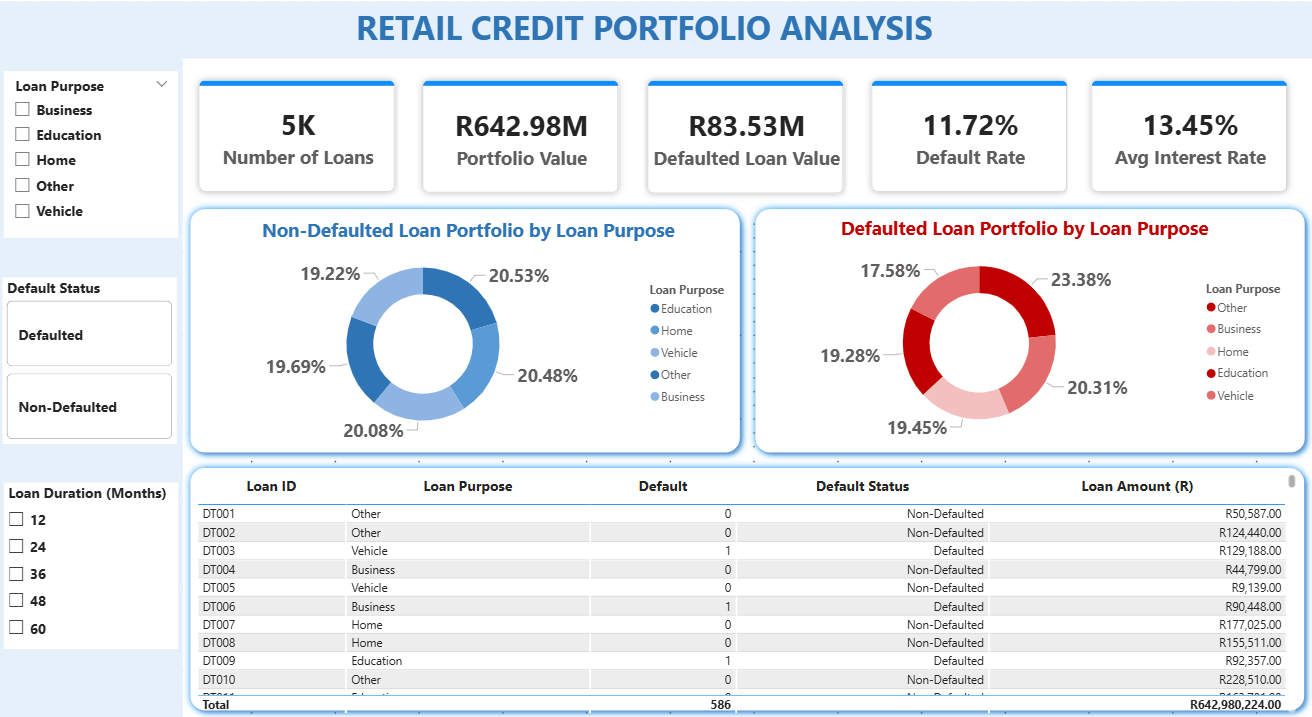

The page's visual inventory and layout, read from the dashboard file:
{"tool":"powerbi","page":{"name":"Summary","canvas":[1500,820],"ordinal":0},"visuals":[{"type":"group","id":"g1","title":"Group 1","box":[199.8,64.9,1300.4,185.6],"z":0},{"type":"cardVisual","fields":{"Data":["Sum(Loan.LoanAmount)"]},"box":[712.7,65,279.9,185.5],"z":0,"group":"g1"},{"type":"cardVisual","fields":{"Data":["CountNonNull(Loan.LoanID)"]},"box":[199.8,65,279.8,183.3],"z":1000,"group":"g1"},{"type":"shape","box":[854.2,229.4,646,296.1],"z":1000},{"type":"cardVisual","fields":{"Data":["Sum(Loan.LoanAmount)"]},"box":[455.5,64.9,279.8,184.9],"z":2000,"group":"g1"},{"type":"shape","box":[208.3,229.4,646,296.1],"z":2000},{"type":"shape","box":[0,0.9,1500,65.5],"z":3000,"group":"g3"},{"type":"cardVisual","fields":{"Data":["Avg(Loan.Default)"]},"box":[968.1,65,279.9,183.9],"z":3000,"group":"g1"},{"type":"cardVisual","fields":{"Data":["Avg(Loan.InterestRate_Decimal)"]},"box":[1220.3,65,279.9,183.9],"z":4000,"group":"g1"},{"type":"donutChart","title":"Non-Defaulted Loan Portfolio by Loan Purpose","fields":{"Category":["Loan.LoanPurpose"],"Y":["CountNonNull(Loan.LoanID)"]},"box":[220.3,247.6,630.4,263.7],"z":4000,"group":"g2"},{"type":"textbox","box":[95,1,1281.2,72.5],"z":5000,"group":"g3"},{"type":"shape","box":[0,65.9,209,754.2],"z":6000,"group":"g2"},{"type":"donutChart","title":"Defaulted Loan Portfolio by Loan Purpose","fields":{"Category":["Loan.LoanPurpose"],"Y":["CountNonNull(Loan.LoanID)"]},"box":[855.5,246,630.4,263.7],"z":7000},{"type":"shape","box":[208.9,525,1291,295.2],"z":8000},{"type":"tableEx","fields":{"Values":["Loan.LoanID","Loan.LoanPurpose","Sum(Loan.Default)","Loan.Default Status","Sum(Loan.LoanAmount)"]},"box":[220,537.6,1265.9,282.7],"z":9000},{"type":"slicer","title":"Loan Purpose","fields":{"Values":["Loan.LoanPurpose"]},"box":[4.2,82.1,199.2,190.8],"z":10000,"group":"g2"},{"type":"advancedSlicerVisual","fields":{"Values":["Loan.Default Status"]},"box":[2.8,317.2,199,190],"z":11000,"group":"g2"},{"type":"listSlicer","fields":{"Values":["Loan.LoanTerm"]},"box":[4.2,551.5,199,190],"z":12000,"group":"g2"},{"type":"group","id":"g2","title":"Group 2","box":[0,65.9,850.7,754.2],"z":12001},{"type":"group","id":"g3","title":"Group 3","box":[0,0.9,1500,72.6],"z":12002}]}

Visuals, with their boxes in screenshot pixels (x1, y1, x2, y2), scaled from the page's 1500x820 canvas onto the 1312x717 screenshot:
"Group 1" group: (175,57,1311,219)
cardVisual - Sum(Loan.LoanAmount): (623,57,868,219)
cardVisual - CountNonNull(Loan.LoanID): (175,57,419,217)
shape: (747,201,1311,459)
cardVisual - Sum(Loan.LoanAmount): (398,57,643,218)
shape: (182,201,747,459)
shape: (0,1,1311,58)
cardVisual - Avg(Loan.Default): (847,57,1092,218)
cardVisual - Avg(Loan.InterestRate_Decimal): (1067,57,1311,218)
"Non-Defaulted Loan Portfolio by Loan Purpose" donutChart: (193,216,744,447)
textbox: (83,1,1204,64)
shape: (0,58,183,716)
"Defaulted Loan Portfolio by Loan Purpose" donutChart: (748,215,1300,446)
shape: (183,459,1311,716)
tableEx - Loan.LoanID x Loan.LoanPurpose: (192,470,1300,716)
"Loan Purpose" slicer: (4,72,178,239)
advancedSlicerVisual - Loan.Default Status: (2,277,177,443)
listSlicer - Loan.LoanTerm: (4,482,178,648)
"Group 2" group: (0,58,744,716)
"Group 3" group: (0,1,1311,64)
